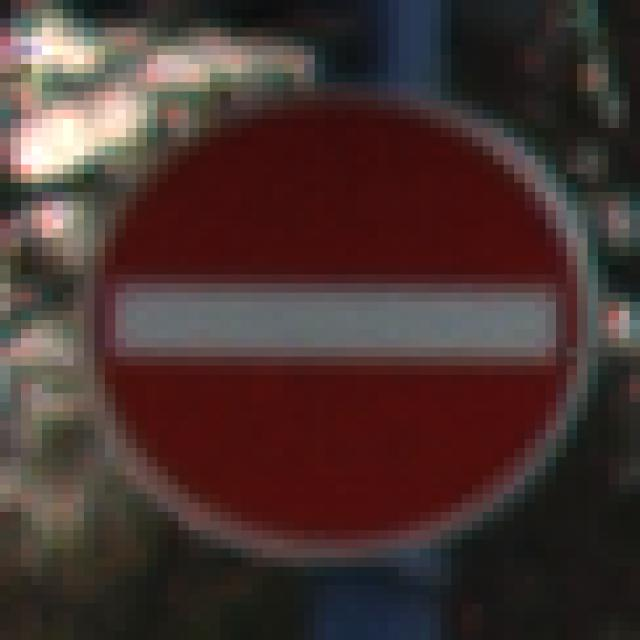No Entry: (54, 56, 589, 586)
